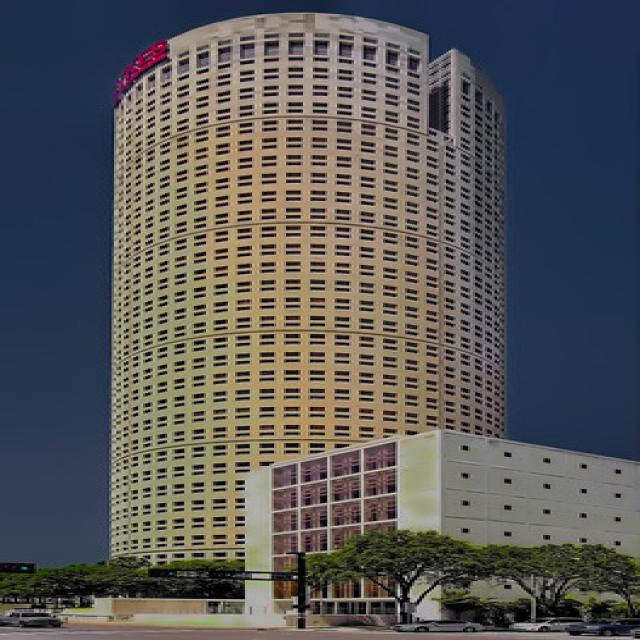building: (89, 9, 518, 608)
